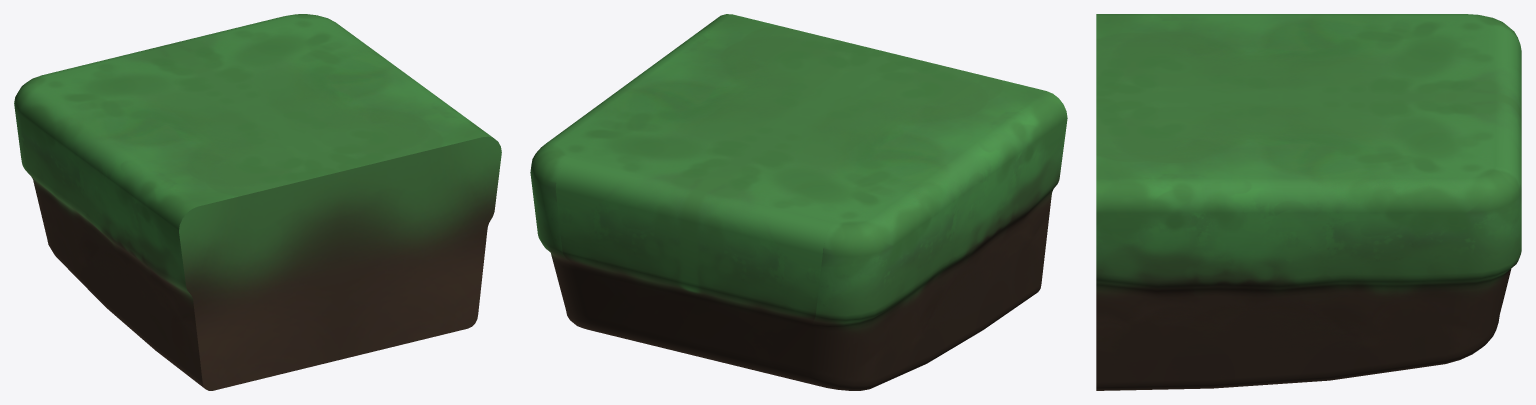
The model's file is terrain_end_2.fbx.
The picture shows the model from 3 angles, left to right: view 1: azimuth 30°, elevation 25°; view 2: azimuth 150°, elevation 25°; view 3: azimuth 270°, elevation 25°; orthographic projection. The views are drawn at different scales.
Parts seen in each view (by area): view 1: terrain_end_2; view 2: terrain_end_2; view 3: terrain_end_2.
Boxes of the visible parts, x1,y1,x2,y2 form: terrain_end_2: (14, 14, 501, 390); terrain_end_2: (530, 14, 1067, 390); terrain_end_2: (1096, 14, 1521, 390).
Size of the model in its own units: 420 by 234 by 410.
